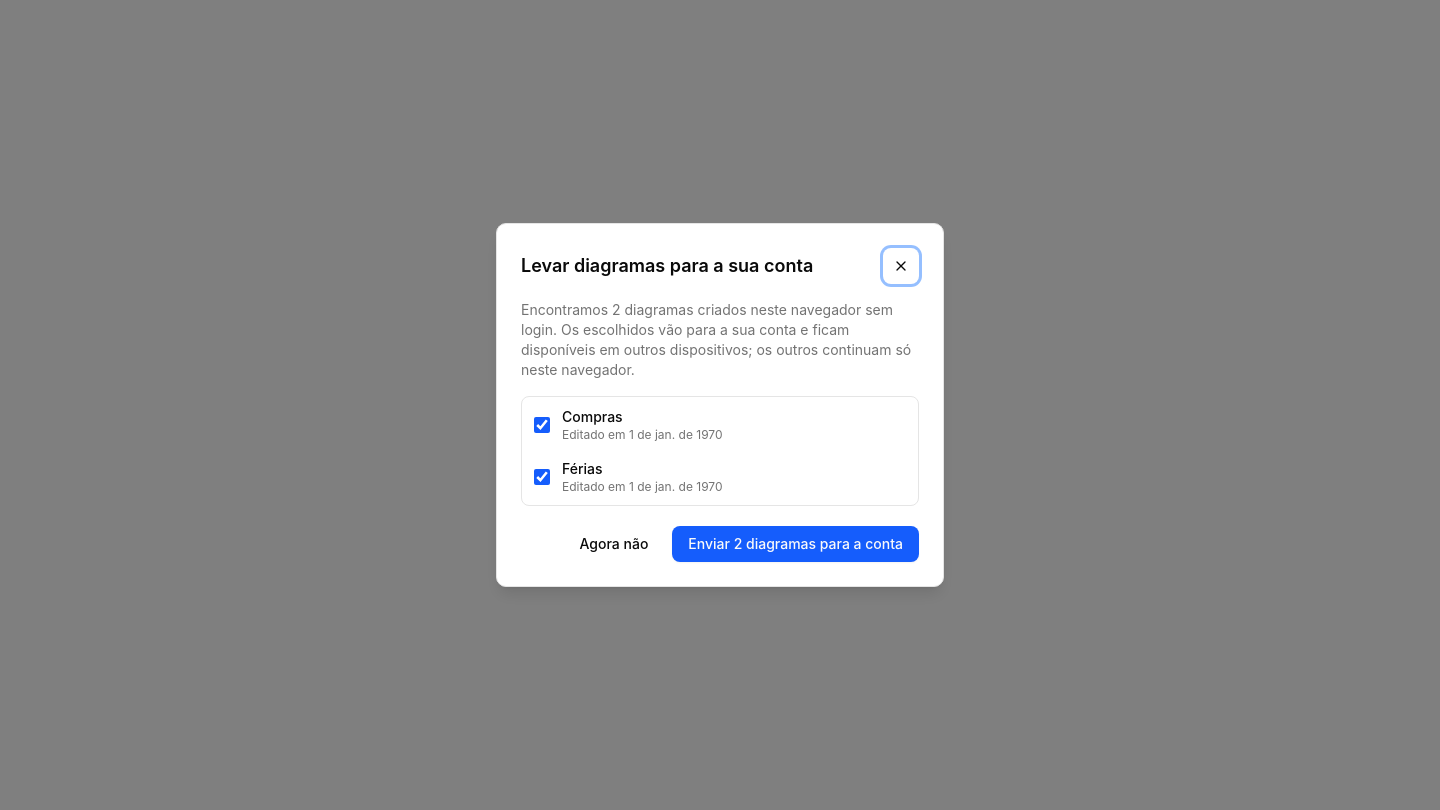
MigrateGuestDiagramsDialog › stays open and lets the user retry when moving fails
Click the button "Enviar 2 diagramas para a conta": (796, 544) [672,526,919,562]
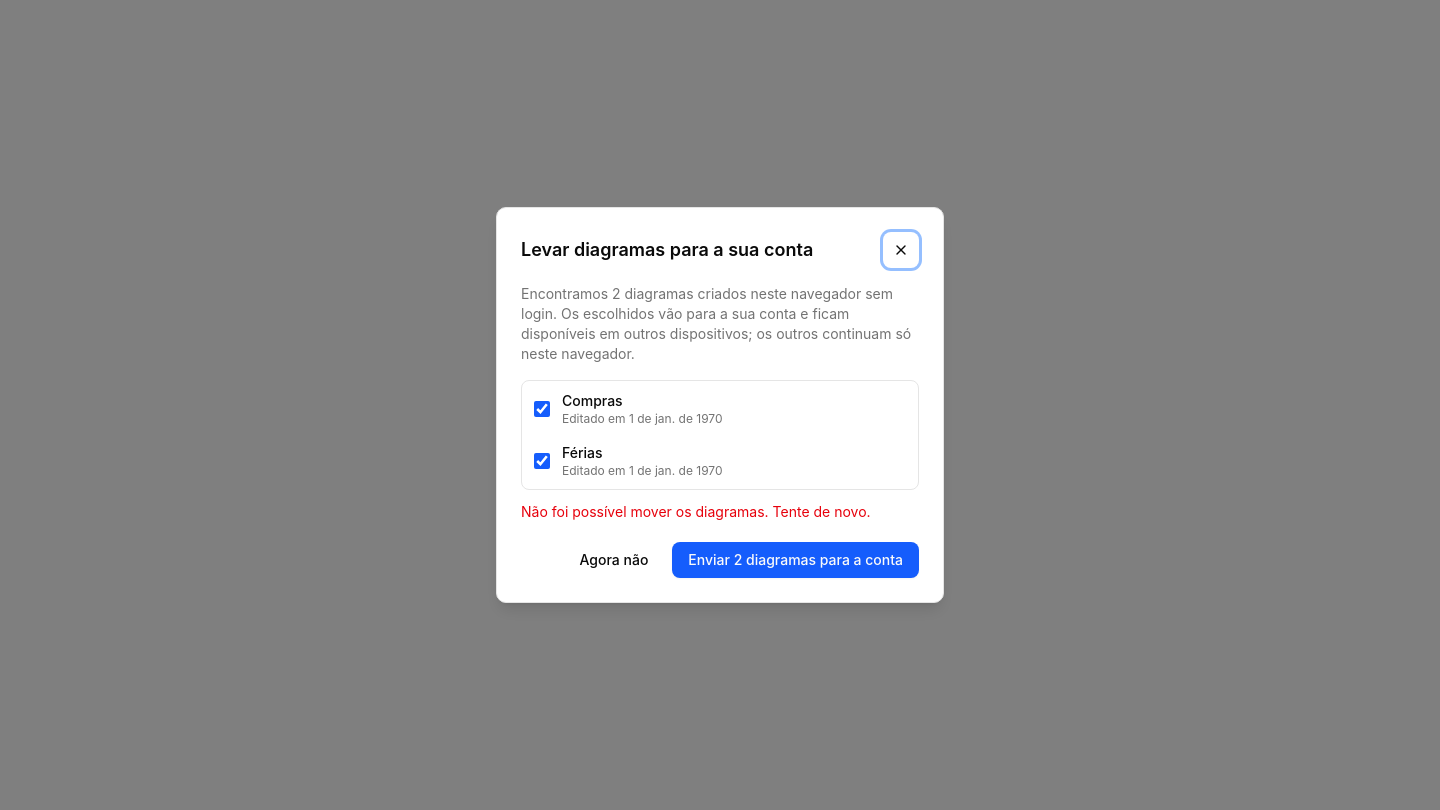
expect the button "Enviar 2 diagramas para a conta" is enabled: met, box [672,542,919,578]
expect the message shows "Não foi possível mover": met, box [521,503,871,520]
